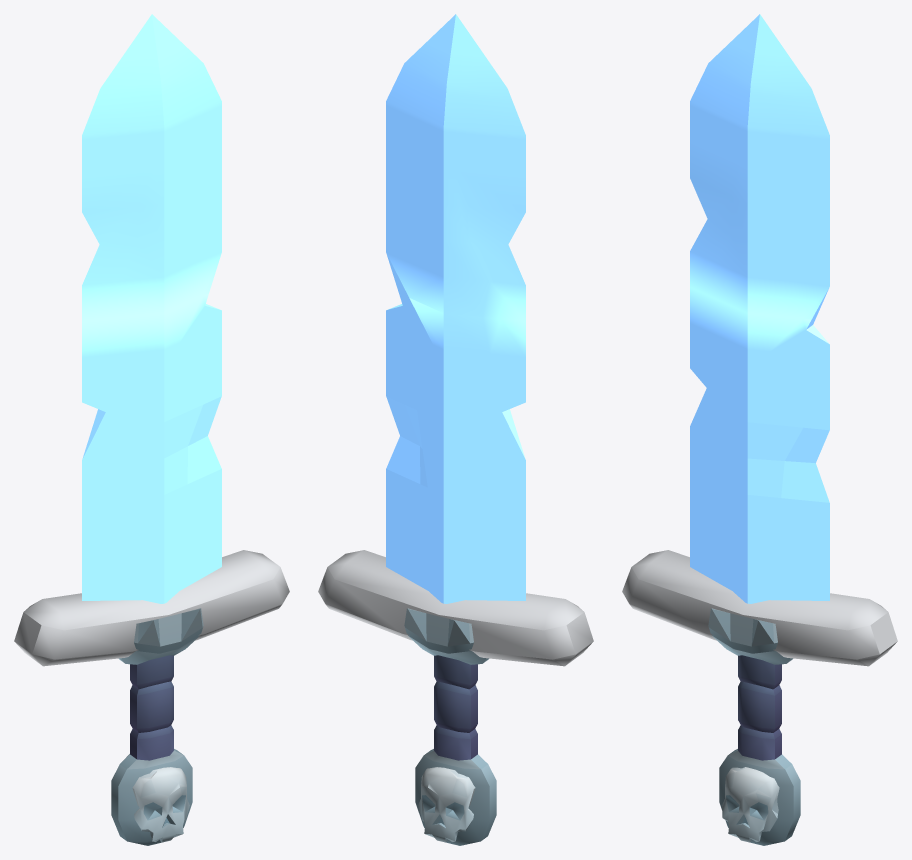
File: weapon_frost.glb
3 views of the same model, side by side, from view 1: azimuth 30°, elevation 25°; view 2: azimuth 150°, elevation 25°; view 3: azimuth 330°, elevation 25° (orthographic).
Visible parts, largest first — view 1: weapon_frost; view 2: weapon_frost; view 3: weapon_frost.
Boxes of the visible parts, <box> form: weapon_frost: <box>14,14,289,845</box>; weapon_frost: <box>318,14,593,845</box>; weapon_frost: <box>622,14,897,845</box>.
Size of the model in its own units: 0.579 by 1.78 by 0.1939.
3 materials, 1 textured.
